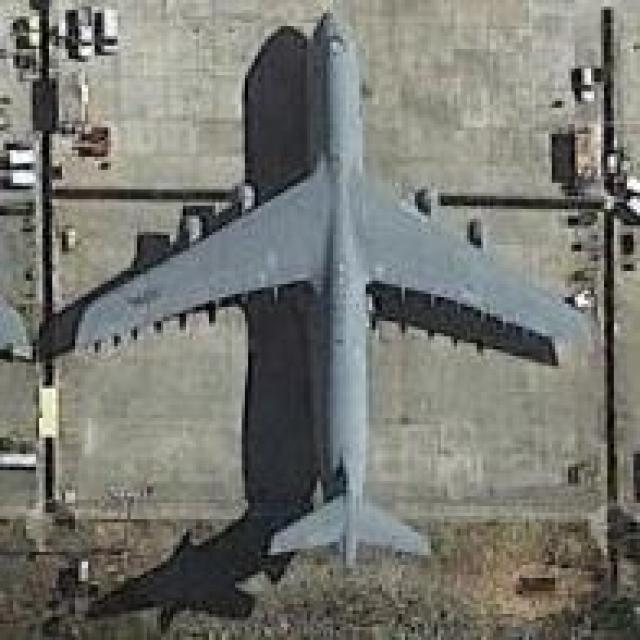C-5_TopDown: (36, 10, 594, 568)
